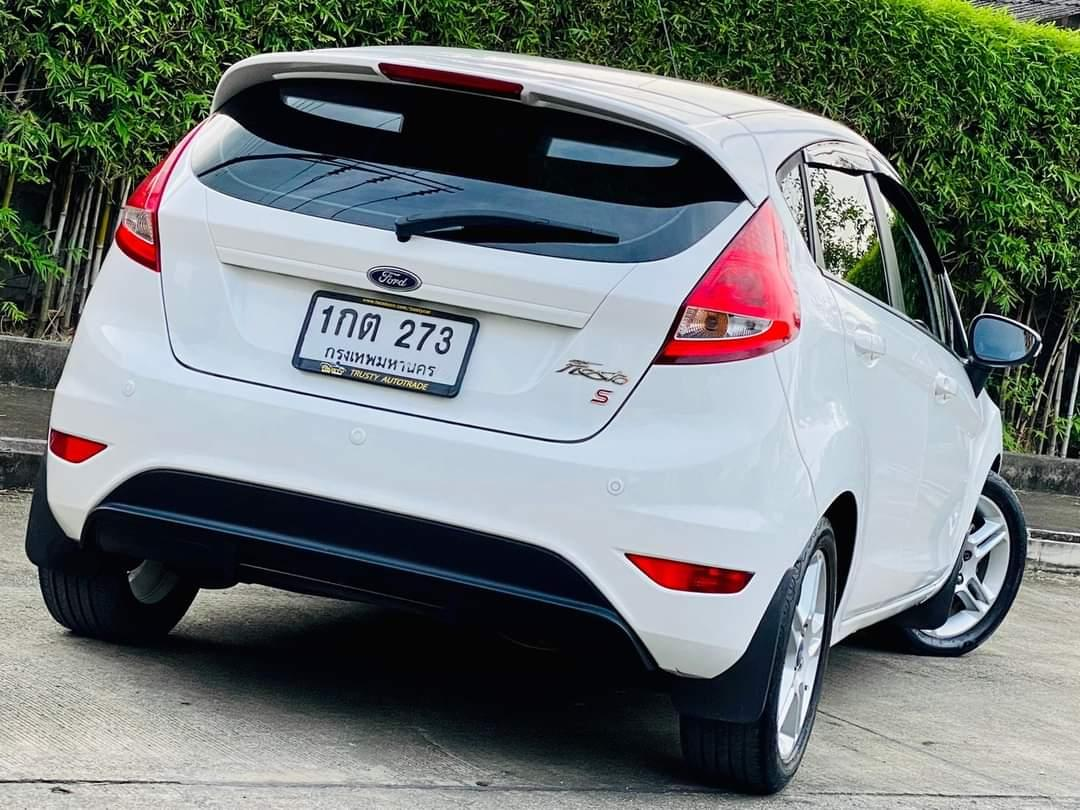license-plate: (287, 286, 482, 406)
